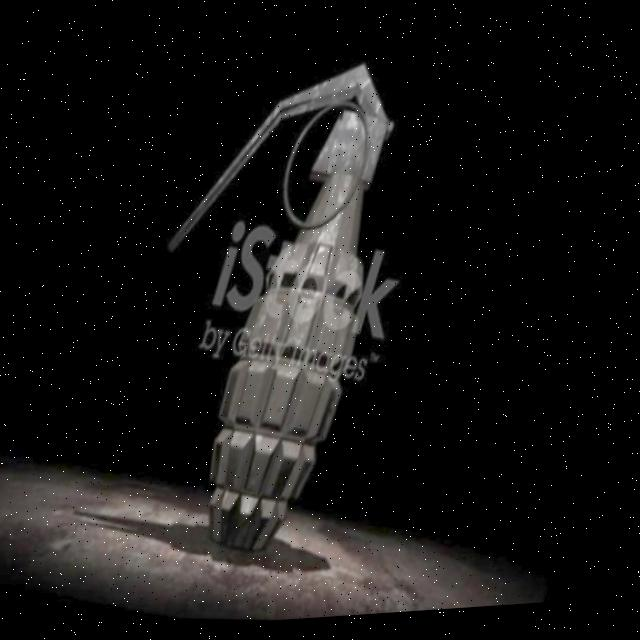grenade: (91, 24, 441, 579)
